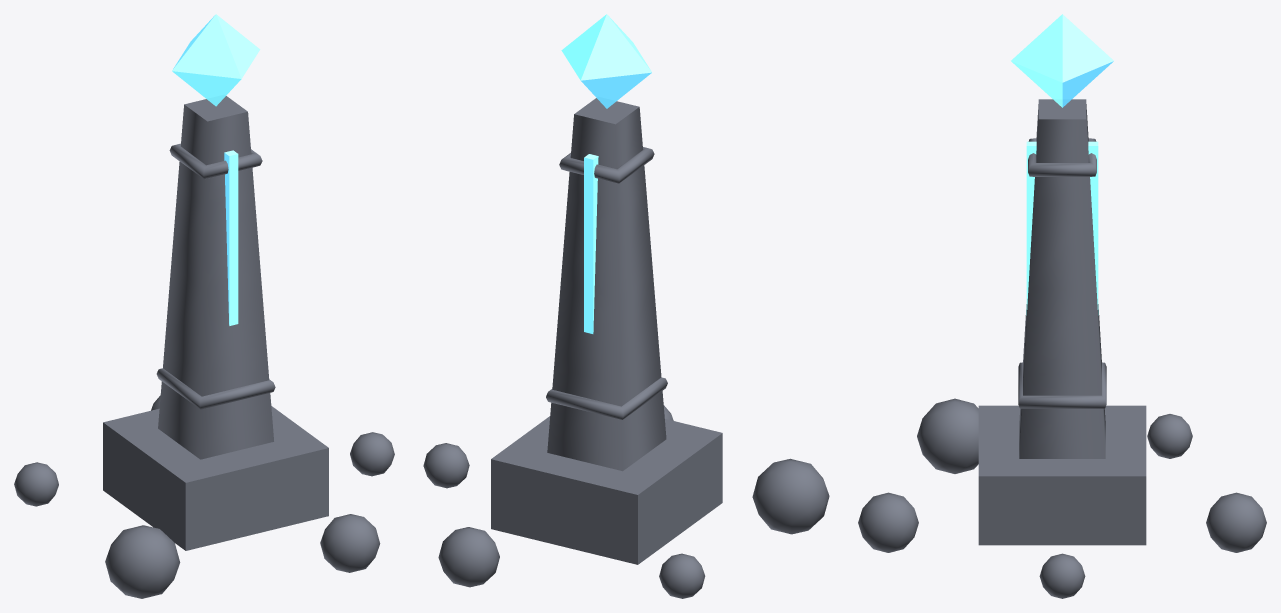
The model's file is obelisque_lantien.glb.
3 views of the same model, side by side, from view 1: azimuth 30°, elevation 25°; view 2: azimuth 150°, elevation 25°; view 3: azimuth 270°, elevation 25° (orthographic). The views are drawn at different scales.
Size of the model in its own units: 2.57 by 3.76 by 2.68.
